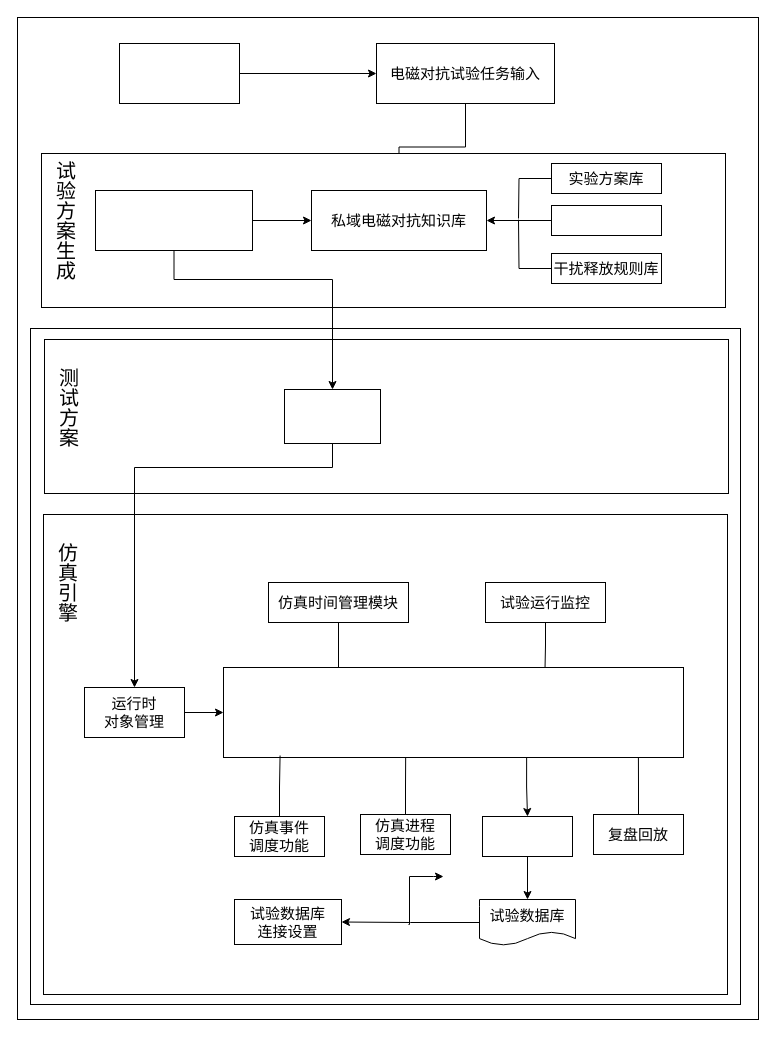
Some shapes in this 779 by 1037 pixel diagram are drawn without their labels. The centre of each missing label's shape, as x and y in pixels:
"RAG知识增强大模型" belongs at point (173, 220).
"推演数据库" belongs at point (606, 220).
"数据记录功能" belongs at point (527, 836).
"测试设备部 署规划编辑" belongs at point (332, 416).
"用户需求层" belongs at point (179, 73).
"集中分布式一体化 仿真引擎" belongs at point (453, 712).
